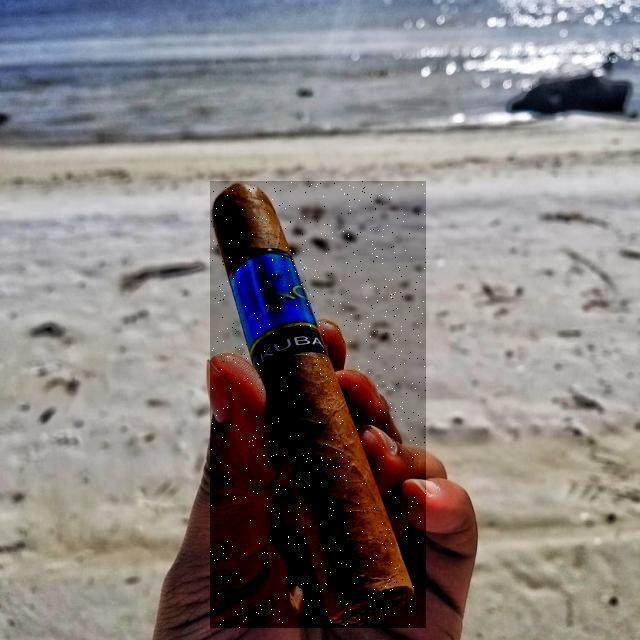smoking: (210, 181, 426, 628)
